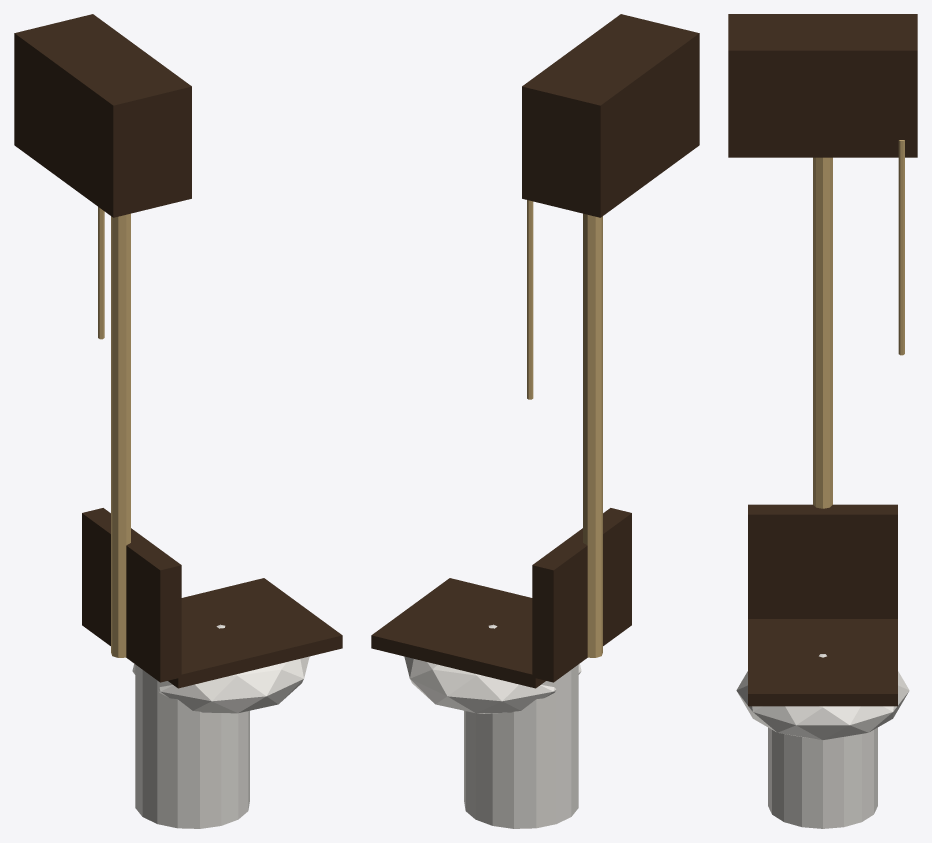
File: SM_Mob_Klozet.fbx
3 renders of one model, left to right at view 1: azimuth 30°, elevation 25°; view 2: azimuth 150°, elevation 25°; view 3: azimuth 270°, elevation 25°, orthographic. The views are drawn at different scales.
Parts seen in each view (by area): view 1: Mob_Klozet; view 2: Mob_Klozet; view 3: Mob_Klozet.
Part boxes in pixels (bbox=[...]): Mob_Klozet: bbox=[14, 14, 342, 828]; Mob_Klozet: bbox=[371, 14, 699, 828]; Mob_Klozet: bbox=[728, 14, 917, 828].
Size of the model in its own units: 67 by 205 by 48.
